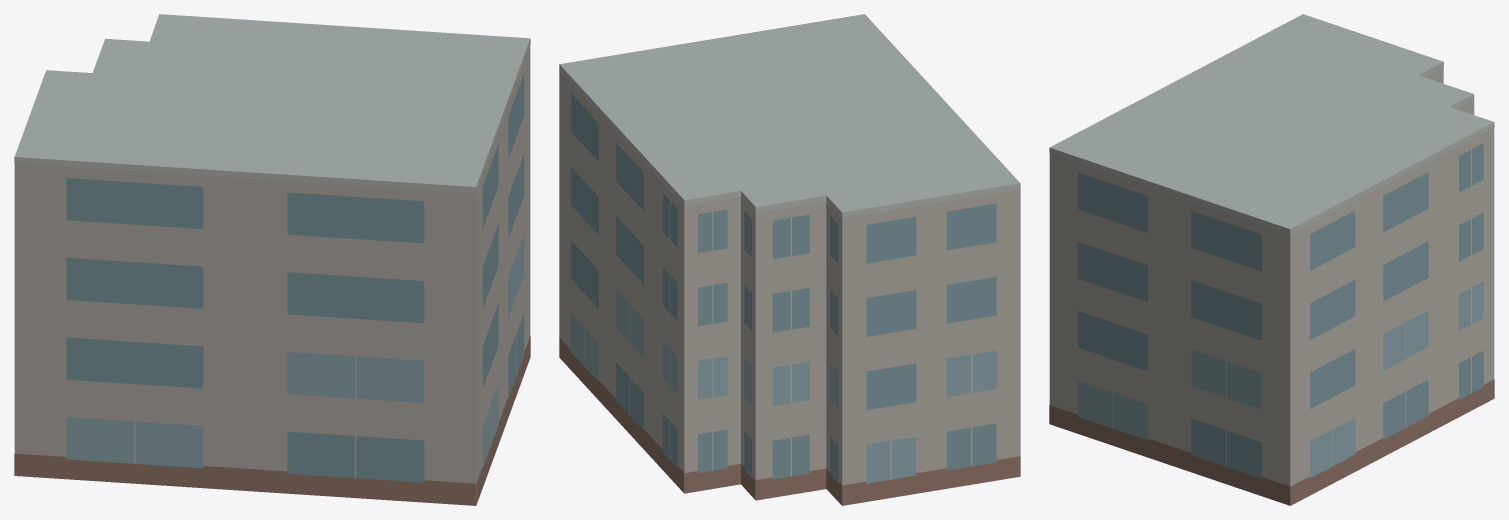
Rendered from residential-554b5f36-8c7a-42d2-b2e2-f39176c49509.glb.
3 views of the same model, side by side, from view 1: azimuth 30°, elevation 25°; view 2: azimuth 150°, elevation 25°; view 3: azimuth 270°, elevation 25° (orthographic). The views are drawn at different scales.
Visible parts, largest first — view 1: residential-554b5f36-8c7a-42d2-b2e2-f39176c49509.tmp; view 2: residential-554b5f36-8c7a-42d2-b2e2-f39176c49509.tmp; view 3: residential-554b5f36-8c7a-42d2-b2e2-f39176c49509.tmp.
Boxes of the visible parts, x1,y1,x2,y2 form: residential-554b5f36-8c7a-42d2-b2e2-f39176c49509.tmp: (14,14,530,505); residential-554b5f36-8c7a-42d2-b2e2-f39176c49509.tmp: (559,14,1020,505); residential-554b5f36-8c7a-42d2-b2e2-f39176c49509.tmp: (1049,14,1494,505).
Bounding box in the file's own units: 20.37 × 12.2 × 17.8.
